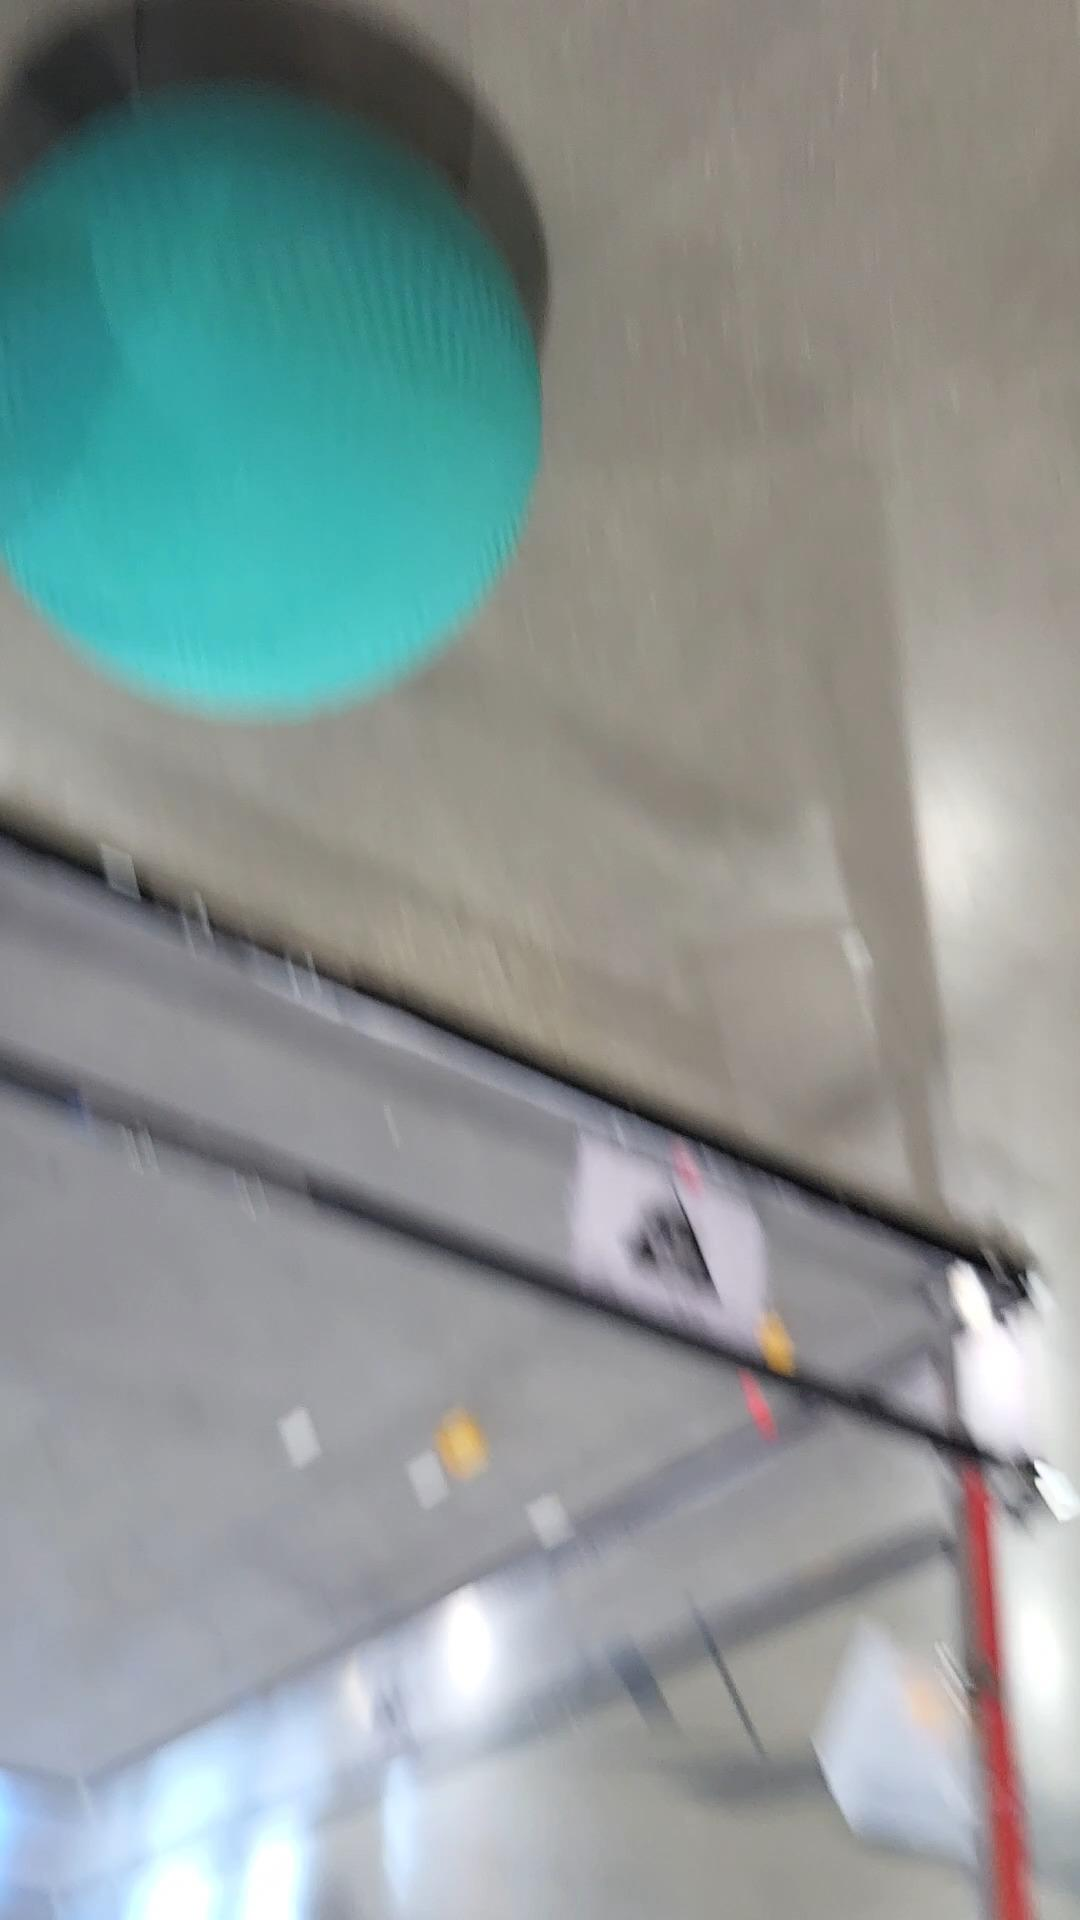algae: (0, 67, 556, 713)
